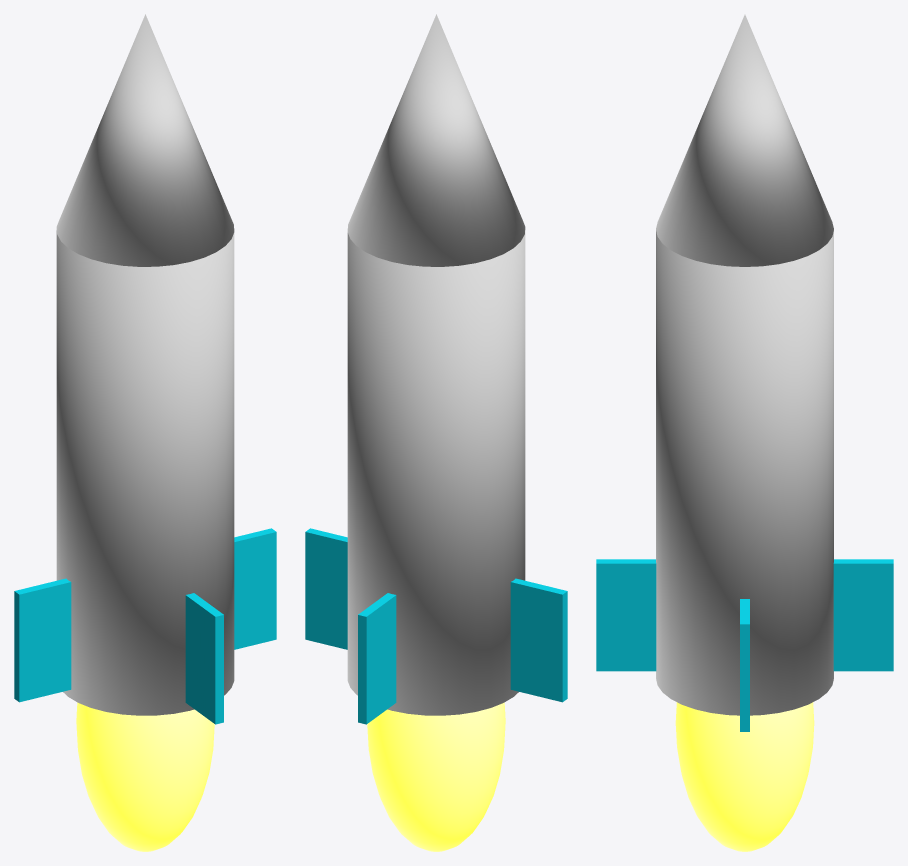
File: rocket.glb
3 views of the same model, side by side, from view 1: azimuth 30°, elevation 25°; view 2: azimuth 150°, elevation 25°; view 3: azimuth 270°, elevation 25° (orthographic).
Parts seen in each view (by area): view 1: Cylinder, Cone, Sphere.007, Cube.002, Cube, Cube.003; view 2: Cylinder, Cone, Sphere.007, Cube.002, Cube, Cube.001; view 3: Cylinder, Cone, Sphere.007, Cube.001, Cube.003, Cube.
Part boxes in pixels (box(x1,y1,x2,y2)): Cylinder: box(56, 230, 234, 715); Cone: box(56, 14, 234, 266); Sphere.007: box(76, 702, 214, 851); Cube.002: box(14, 578, 71, 702); Cube: box(234, 528, 276, 649); Cube.003: box(185, 593, 223, 724); Cylinder: box(347, 230, 525, 715); Cone: box(347, 14, 525, 266); Sphere.007: box(367, 702, 505, 851); Cube.002: box(510, 578, 567, 702); Cube: box(305, 528, 347, 649); Cube.001: box(358, 593, 396, 724); Cylinder: box(656, 231, 833, 715); Cone: box(656, 14, 833, 266); Sphere.007: box(675, 702, 814, 851); Cube.001: box(833, 559, 893, 671); Cube.003: box(596, 559, 656, 671); Cube: box(740, 599, 749, 731).
Bounding box in the file's own units: 1.5 × 4.65 × 1.5.
